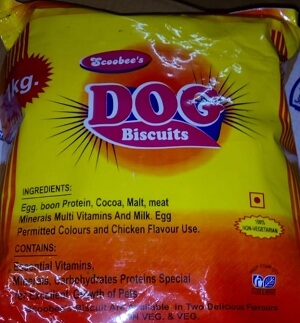nonveg_red: (248, 191, 266, 209)
